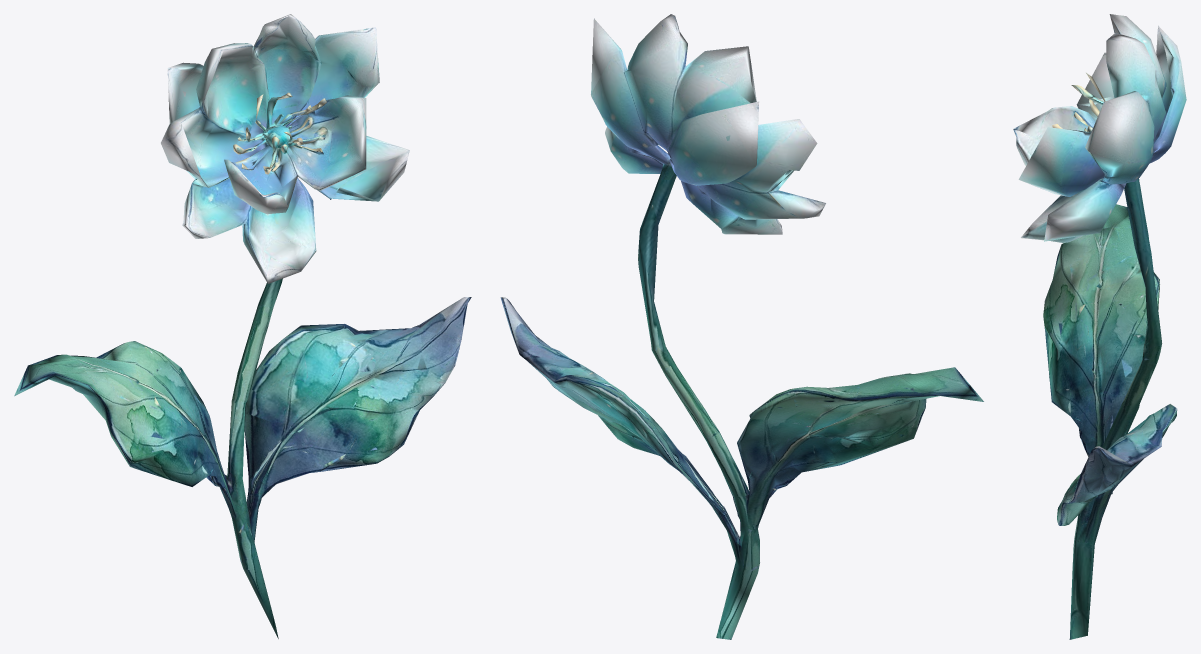
The model's file is flor1.glb.
3 views of the same model, side by side, from view 1: azimuth 30°, elevation 25°; view 2: azimuth 150°, elevation 25°; view 3: azimuth 270°, elevation 25° (orthographic). The views are drawn at different scales.
Visible parts, largest first — view 1: flor1; view 2: flor1; view 3: flor1.
Boxes of the visible parts, x1,y1,x2,y2 form: flor1: (14, 14, 471, 638); flor1: (500, 14, 983, 639); flor1: (1013, 14, 1186, 639).
Size of the model in its own units: 1.49 by 1.87 by 0.4706.
1 material, 1 textured.
